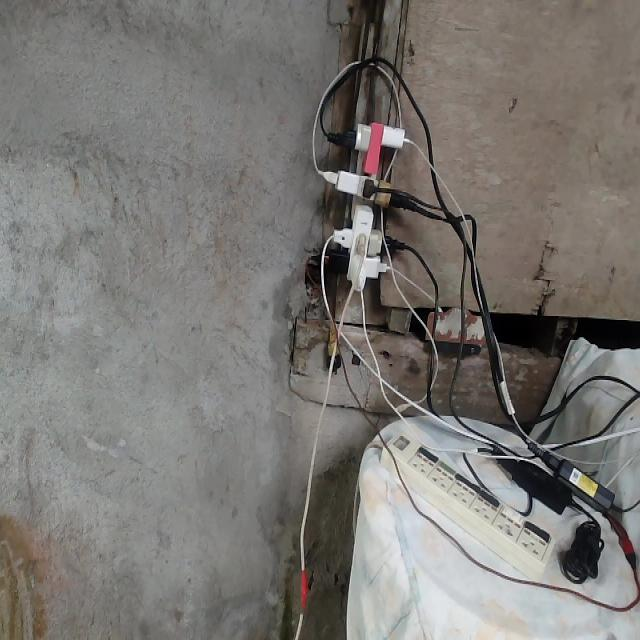-: (321, 121, 406, 292)
